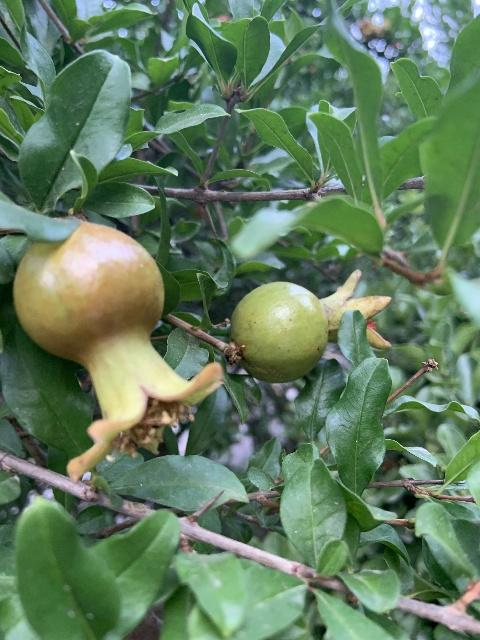early-fruit: (12, 220, 228, 484)
mid-growth: (231, 267, 392, 379)
